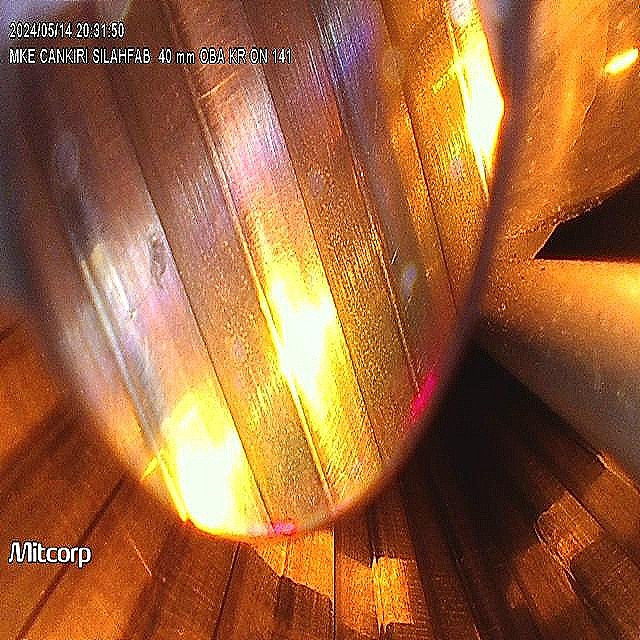hata_5.2: (138, 224, 182, 308)
